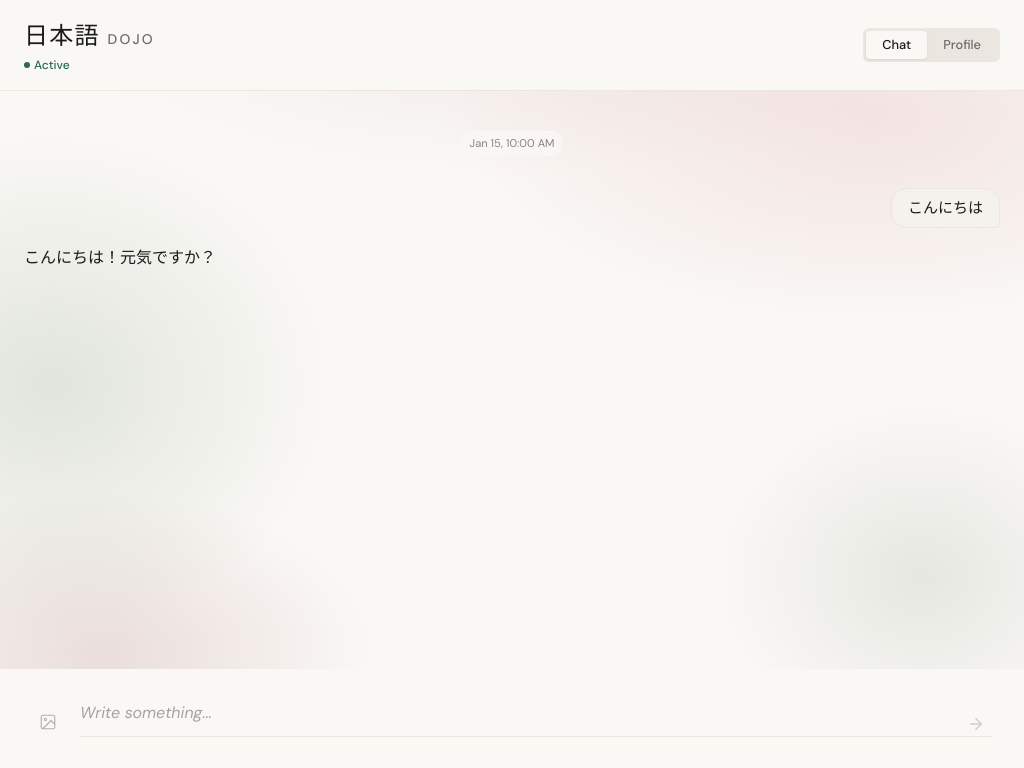
Chat › tabs › switches to profile tab when clicked
What coordinates should you click on to do the following:
click the button "Profile"
I would click on:
 (962, 45)
Its box is [927,31,997,59].
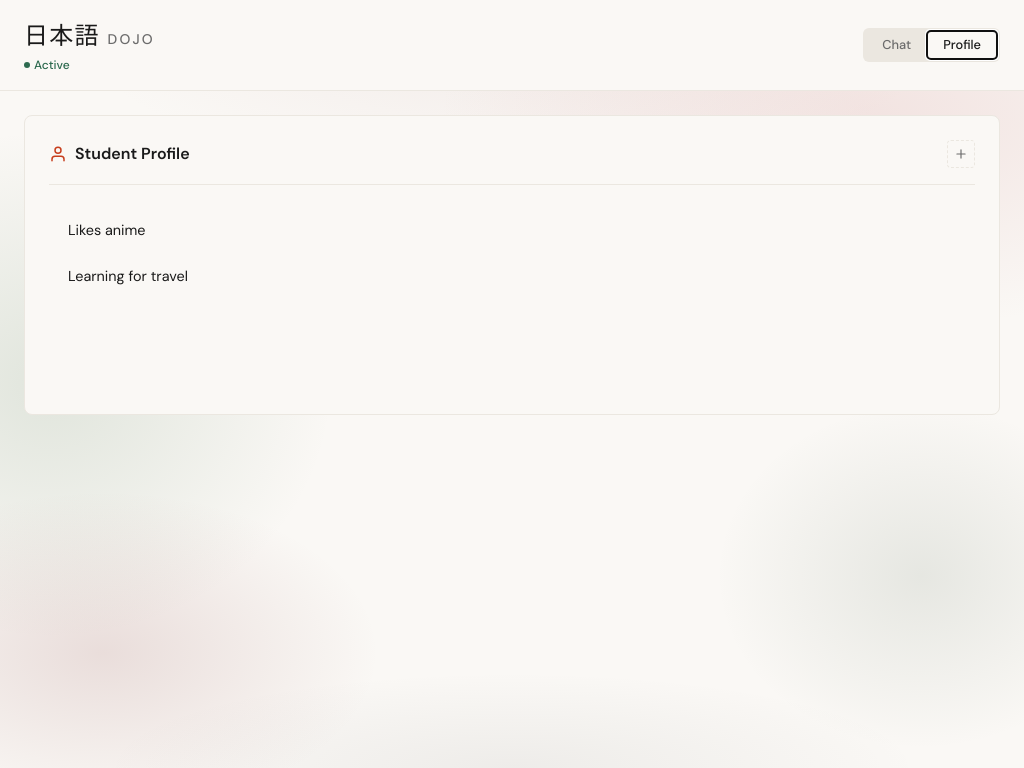
Expected: the heading "Student Profile" is shown, [49,142,190,166]
